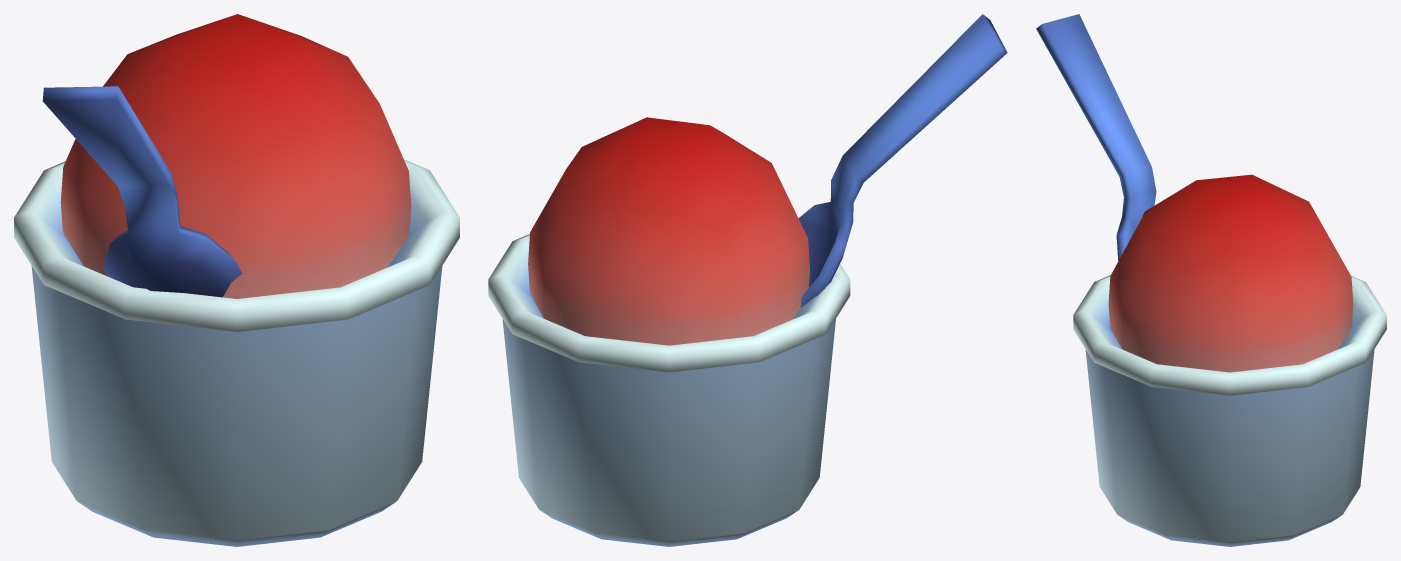
The model's file is m_ShavedIce07.fbx.
The picture shows the model from 3 angles, left to right: view 1: azimuth 30°, elevation 25°; view 2: azimuth 150°, elevation 25°; view 3: azimuth 270°, elevation 25°; orthographic projection. The views are drawn at different scales.
Parts seen in each view (by area): view 1: m_ShavedIce07; view 2: m_ShavedIce07; view 3: m_ShavedIce07.
Part boxes in pixels (box(x1,y1,x2,y2)): m_ShavedIce07: box(14, 14, 459, 546); m_ShavedIce07: box(488, 14, 1007, 546); m_ShavedIce07: box(1036, 14, 1386, 546).
Bounding box in the file's own units: 17.63 × 18.57 × 15.27.
